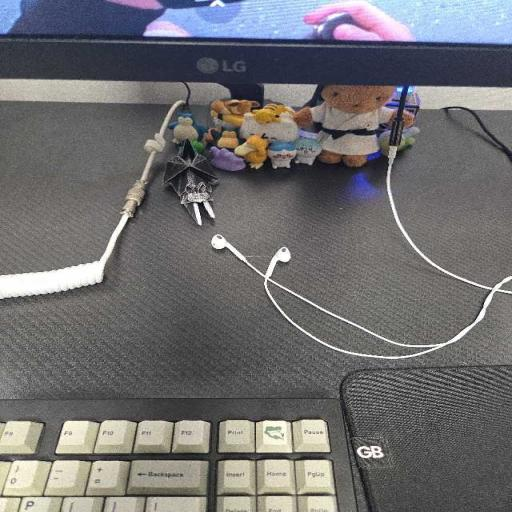person: (10, 0, 189, 37), (304, 0, 413, 41)
